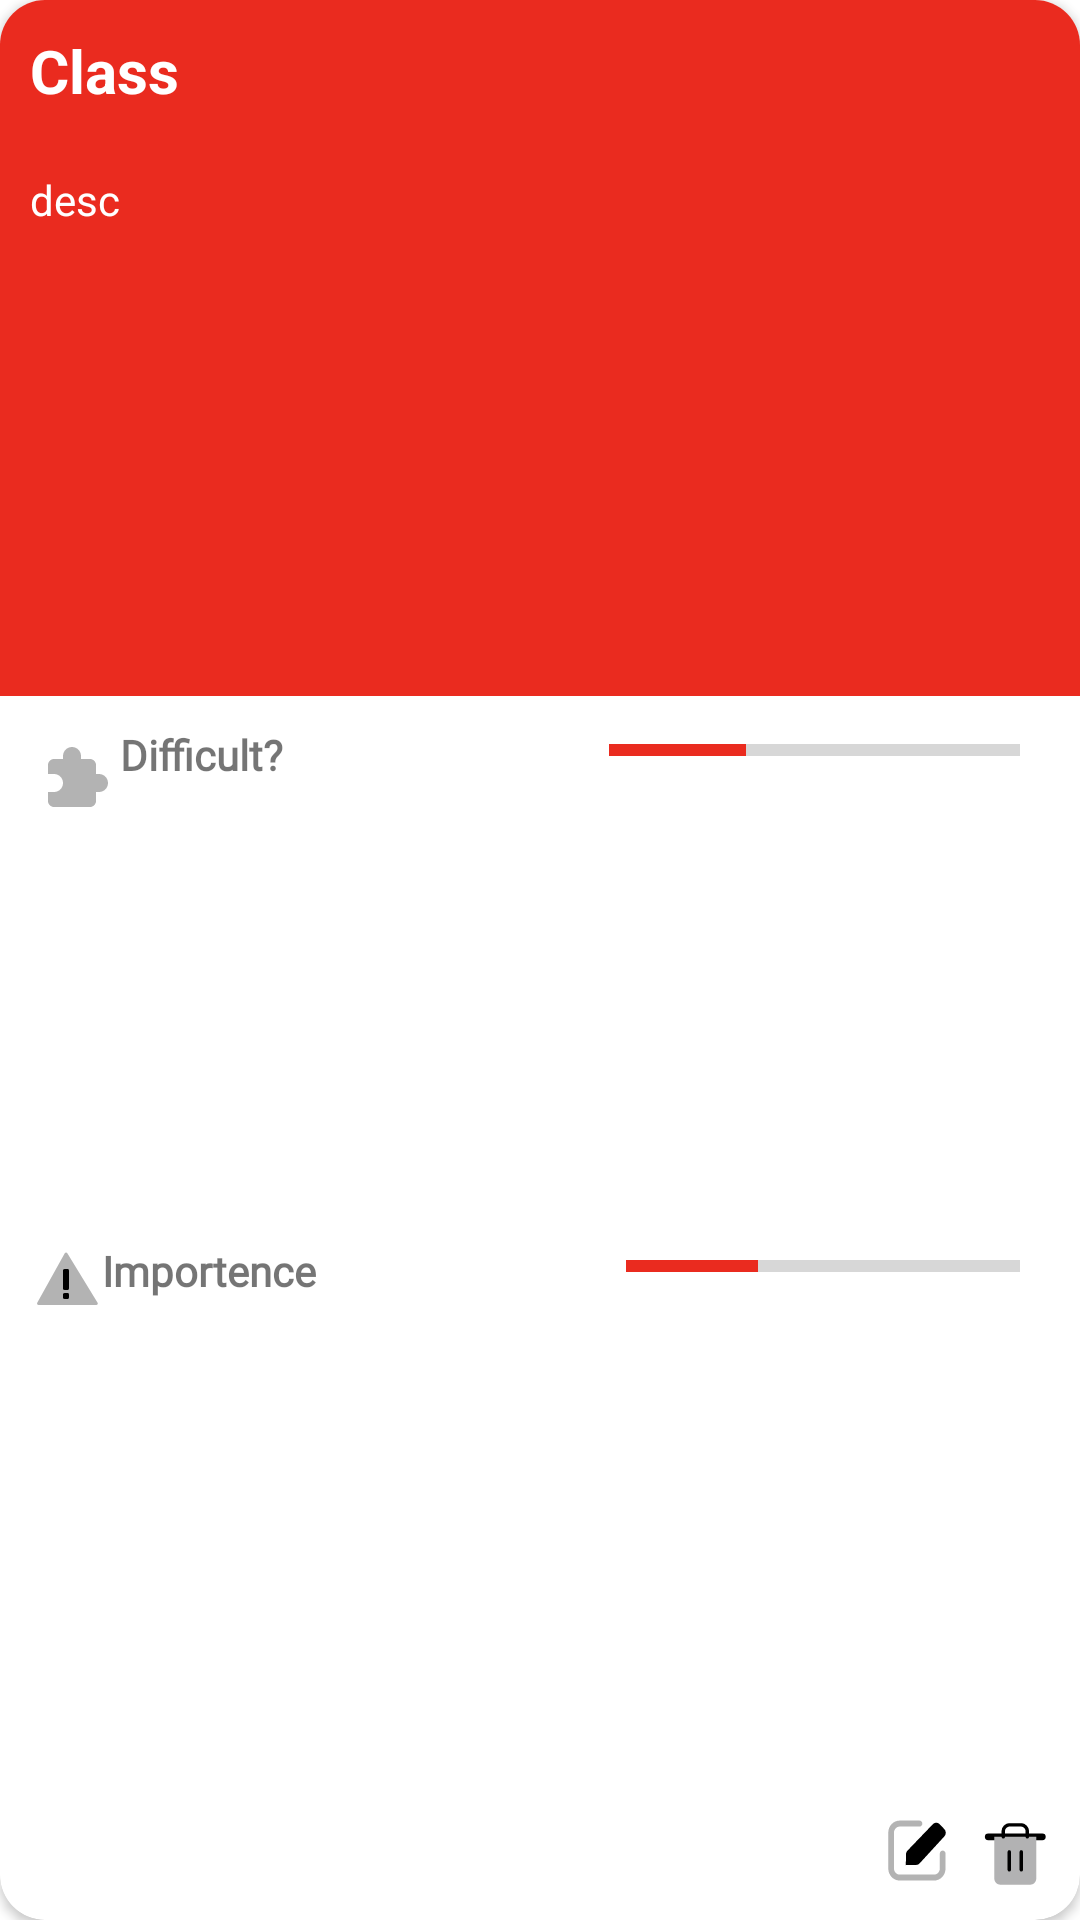

Where icons sit on this 1080x1920 app screen, as (x1, y1, x2, y2):
Delete: (985, 1823, 1046, 1885)
Edit: (888, 1820, 946, 1881)
